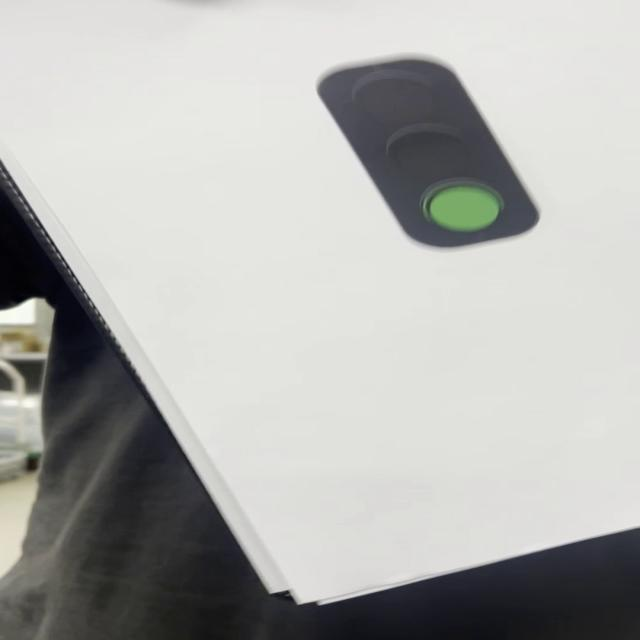green: (317, 57, 543, 251)
